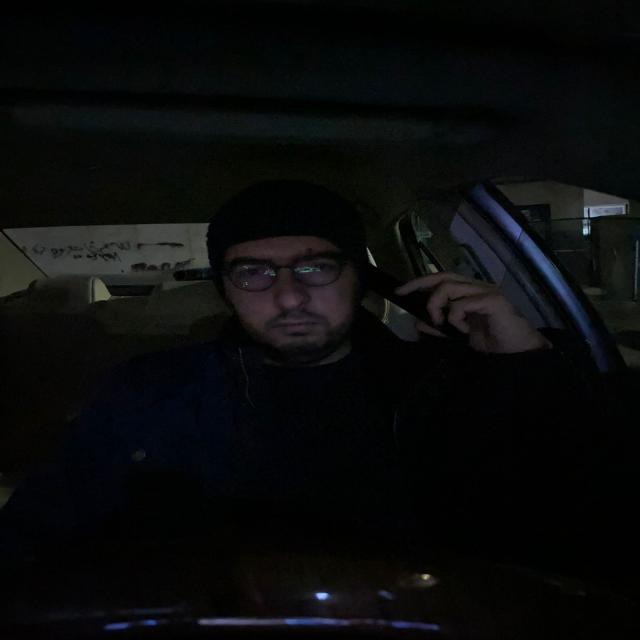mobile: (363, 239, 477, 348)
person: (208, 186, 372, 366)
